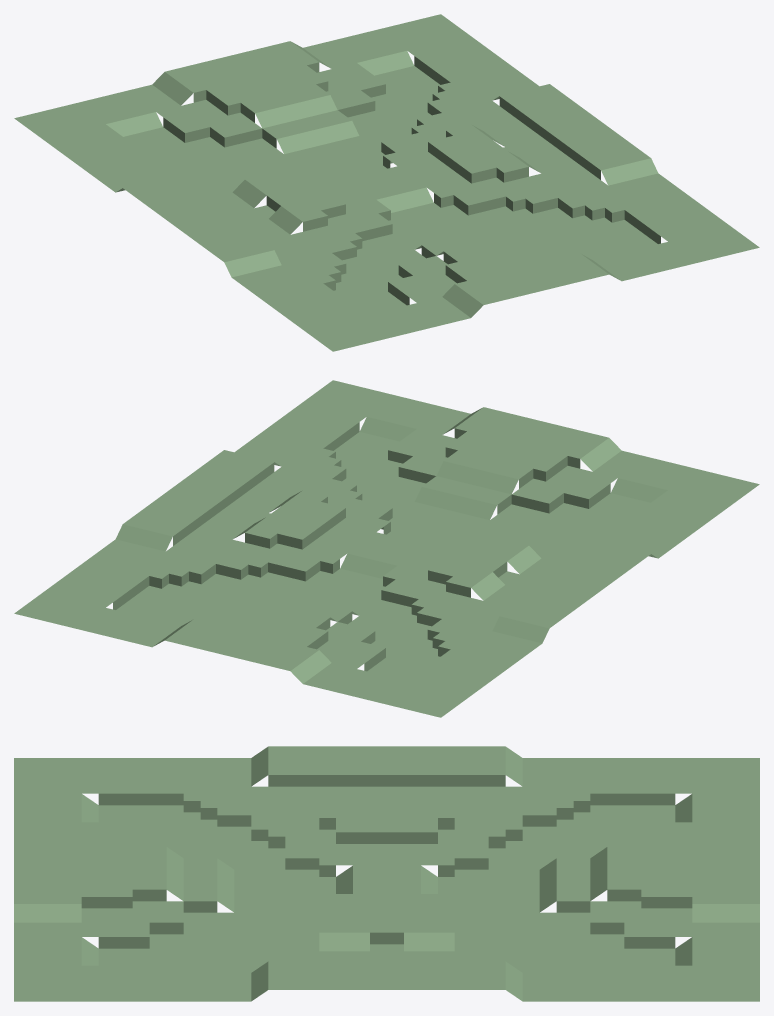
Rendered from ground_0002.fbx.
The picture shows the model from 3 angles, top to bottom: view 1: azimuth 30°, elevation 25°; view 2: azimuth 150°, elevation 25°; view 3: azimuth 270°, elevation 25°; orthographic projection. The views are drawn at different scales.
Parts seen in each view (by area): view 1: ground_0002_GEO; view 2: ground_0002_GEO; view 3: ground_0002_GEO.
Part boxes in pixels (x1,y1,x2,y2): ground_0002_GEO: (14,14,759,351); ground_0002_GEO: (14,380,759,717); ground_0002_GEO: (14,746,759,1001).
Bounding box in the file's own units: 34 × 1.5 × 44.
